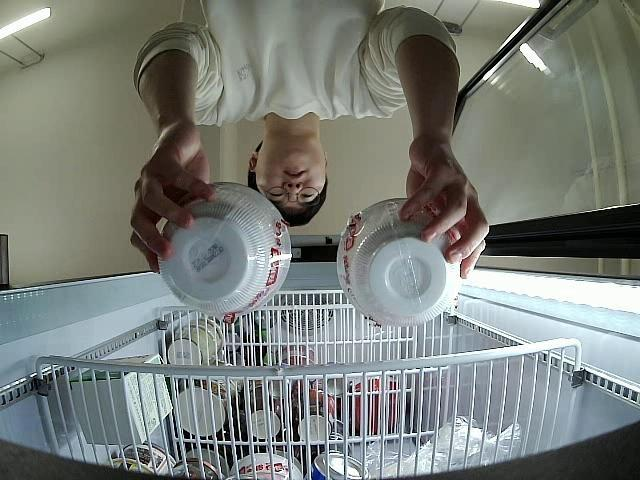09_yukGaeJang: (158, 182, 292, 317), (336, 196, 461, 328)
